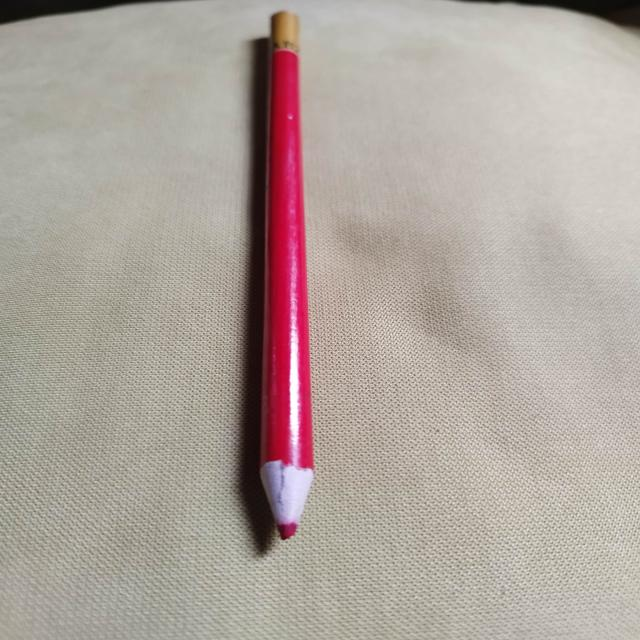pencil: (259, 10, 314, 540)
